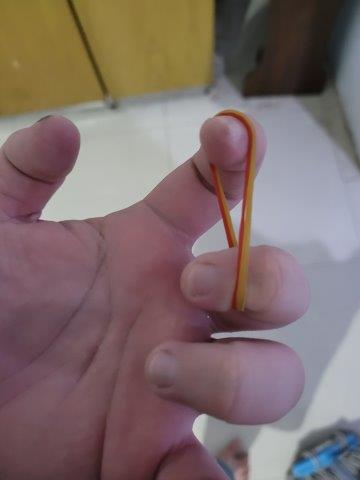karet: (206, 109, 259, 313)
